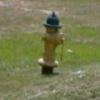a fire hydrant: (38, 12, 65, 74)
